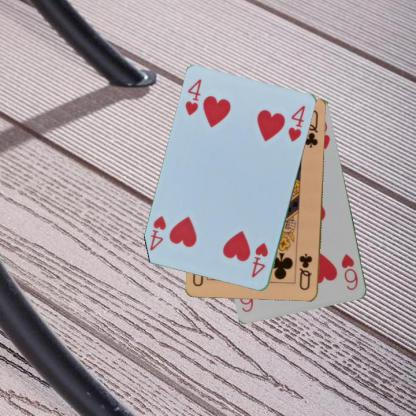4h: (182, 77, 204, 117), (248, 240, 270, 279)
6h: (338, 251, 360, 292)
Qc: (296, 251, 314, 292)
